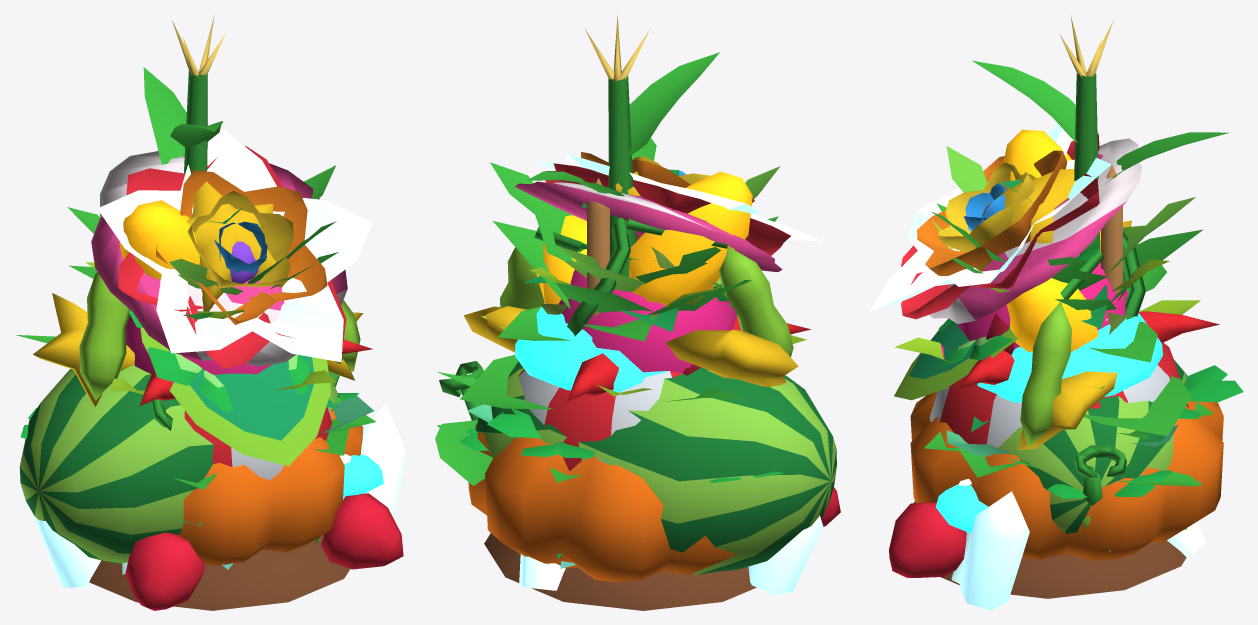
The model's file is crops.glb.
3 views of the same model, side by side, from view 1: azimuth 30°, elevation 25°; view 2: azimuth 150°, elevation 25°; view 3: azimuth 270°, elevation 25° (orthographic). The views are drawn at different scales.
Visible parts, largest first — view 1: crop_melon, crop_moonflower, crop_bean, crop_pumpkin, crop_rainbowrose, crop_berry, crop_goldcorn, crop_radish, crop_candy, crop_star, crop_iceberry, crop_clover (+6 smaller); view 2: crop_melon, crop_pumpkin, crop_goldcorn, crop_radish, crop_bean, crop_magnetmelon, crop_dragonfruit, crop_star, crop_candy, crop_carrot, crop_glowshroom, crop_rainbowrose (+6 smaller); view 3: crop_pumpkin, crop_goldcorn, crop_rainbowrose, crop_bean, crop_melon, crop_candy, crop_radish, crop_glowshroom, crop_magnetmelon, crop_iceberry, crop_berry, crop_star (+7 smaller).
Part boxes in pixels (x1=…): crop_melon: x1=19, y1=365, x2=339, y2=563; crop_moonflower: x1=97, y1=128, x2=372, y2=362; crop_bean: x1=79, y1=272, x2=360, y2=466; crop_pumpkin: x1=152, y1=399, x2=363, y2=565; crop_rainbowrose: x1=117, y1=146, x2=346, y2=368; crop_berry: x1=125, y1=396, x2=403, y2=610; crop_goldcorn: x1=16, y1=15, x2=225, y2=343; crop_radish: x1=69, y1=252, x2=350, y2=610; crop_candy: x1=91, y1=151, x2=347, y2=366; crop_star: x1=33, y1=181, x2=363, y2=406; crop_iceberry: x1=34, y1=403, x2=406, y2=588; crop_clover: x1=20, y1=310, x2=358, y2=438; crop_melon: x1=435, y1=361, x2=836, y2=574; crop_pumpkin: x1=460, y1=354, x2=735, y2=582; crop_goldcorn: x1=437, y1=15, x2=752, y2=401; crop_radish: x1=484, y1=216, x2=778, y2=610; crop_bean: x1=500, y1=178, x2=793, y2=375; crop_magnetmelon: x1=498, y1=306, x2=682, y2=471; crop_dragonfruit: x1=481, y1=267, x2=806, y2=396; crop_star: x1=464, y1=171, x2=798, y2=569; crop_candy: x1=515, y1=181, x2=782, y2=271; crop_carrot: x1=490, y1=138, x2=780, y2=292; crop_glowshroom: x1=515, y1=303, x2=667, y2=392; crop_rainbowrose: x1=545, y1=152, x2=790, y2=396; crop_pumpkin: x1=910, y1=376, x2=1223, y2=560; crop_goldcorn: x1=972, y1=16, x2=1229, y2=439; crop_rainbowrose: x1=901, y1=133, x2=1099, y2=319; crop_bean: x1=894, y1=165, x2=1166, y2=529; crop_melon: x1=999, y1=360, x2=1202, y2=533; crop_candy: x1=929, y1=138, x2=1141, y2=323; crop_radish: x1=914, y1=203, x2=1203, y2=598; crop_glowshroom: x1=935, y1=313, x2=1162, y2=583; crop_magnetmelon: x1=929, y1=321, x2=1188, y2=456; crop_iceberry: x1=959, y1=491, x2=1205, y2=610; crop_berry: x1=889, y1=401, x2=1213, y2=577; crop_star: x1=975, y1=169, x2=1187, y2=529.
Bounding box in the file's own units: 0.625 × 0.895 × 0.5849.
